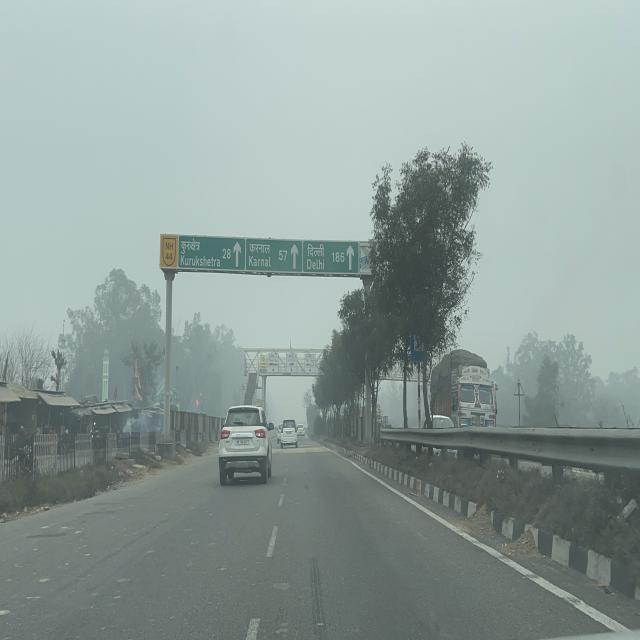GENERAL: (161, 234, 378, 277)
